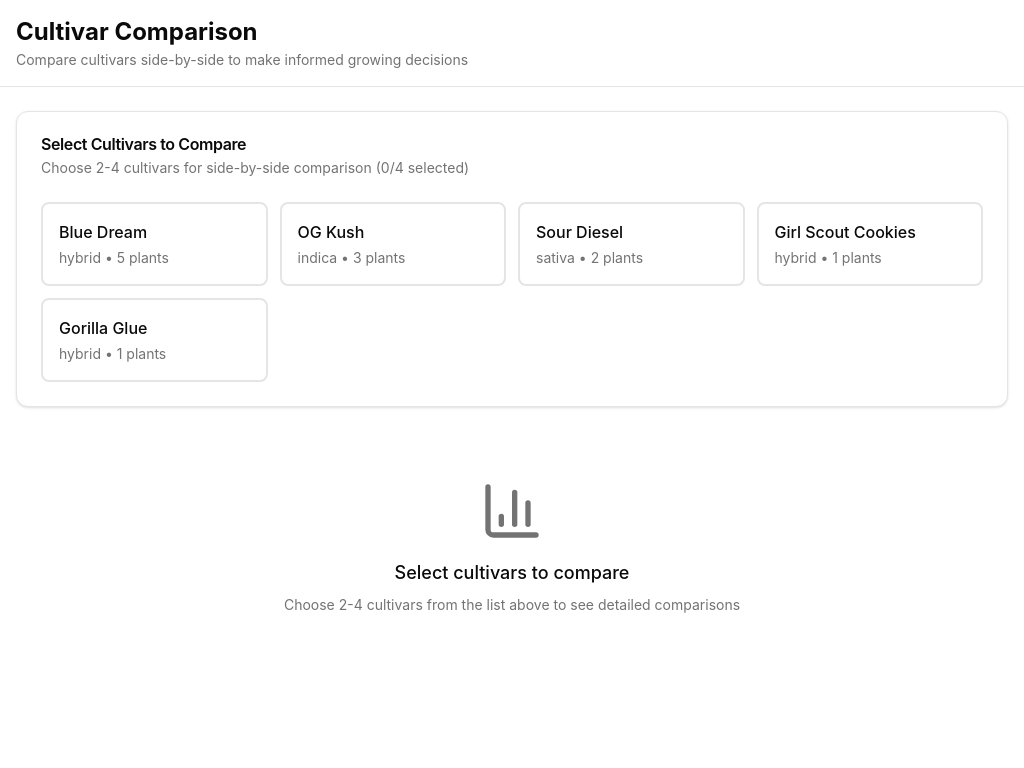
Test: CultivarComparisonPage › limits selection to 4 cultivars maximum
Check: the text "Blue Dream" is shown, box [59, 222, 147, 242]
Click the button "Blue Dream hybrid • 5 plants" at {"x": 154, "y": 244}, box [41, 202, 268, 286]
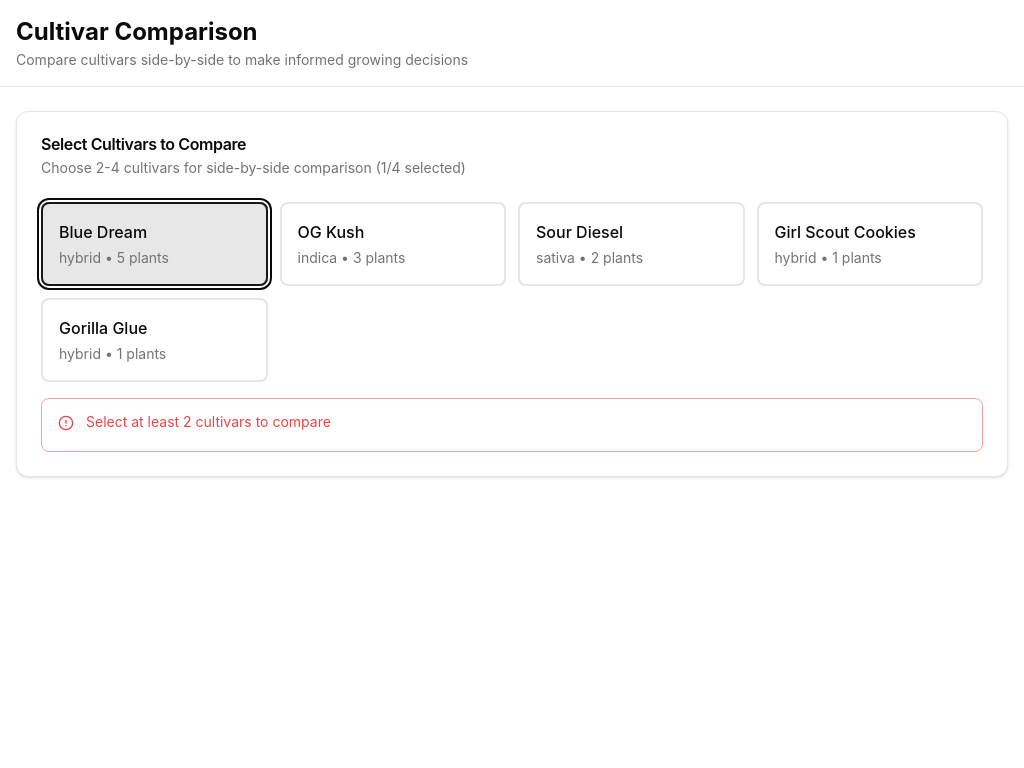
Click the button "OG Kush indica • 3 plants" at {"x": 393, "y": 244}, box [280, 202, 506, 286]
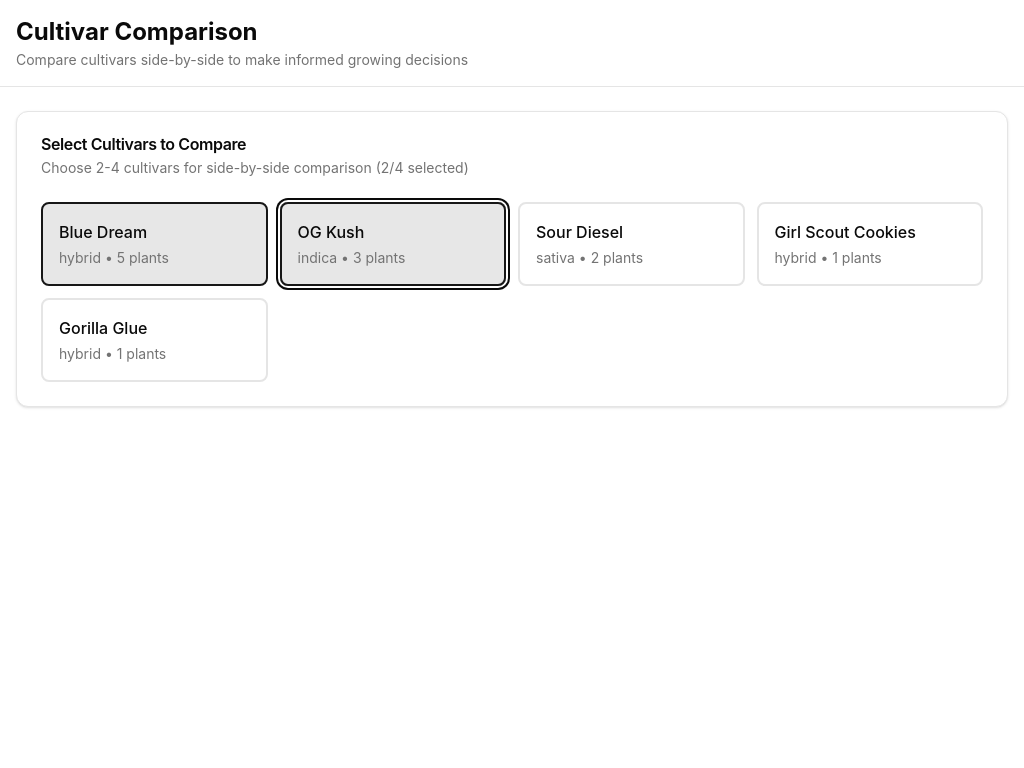
Click the button "Sour Diesel sativa • 2 plants" at {"x": 631, "y": 244}, box [518, 202, 744, 286]
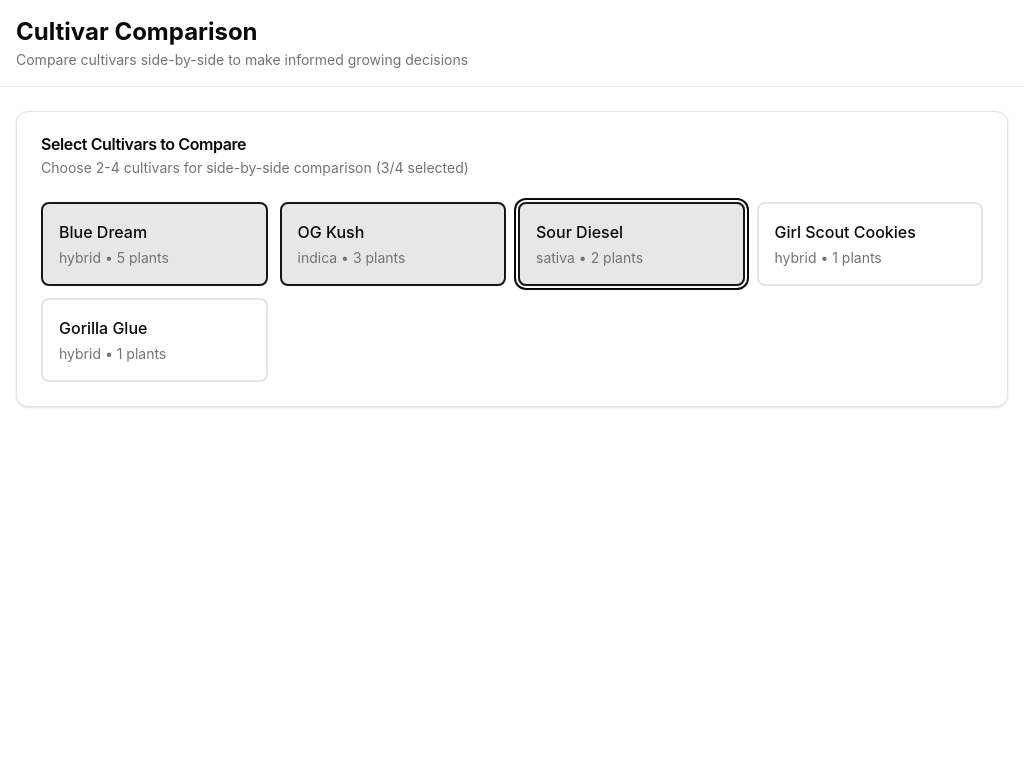
Click the button "Girl Scout Cookies hybrid • 1 plants" at {"x": 870, "y": 244}, box [756, 202, 983, 286]
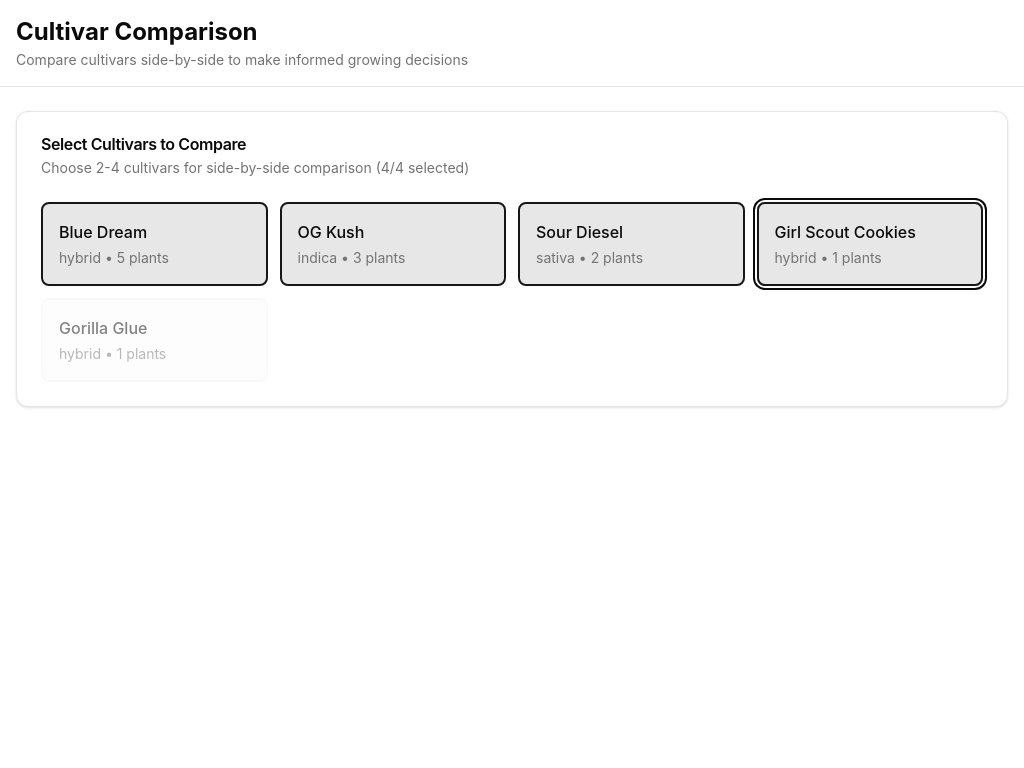
Check: the button "Gorilla Glue hybrid • 1 plants" is disabled, box [41, 298, 268, 382]
